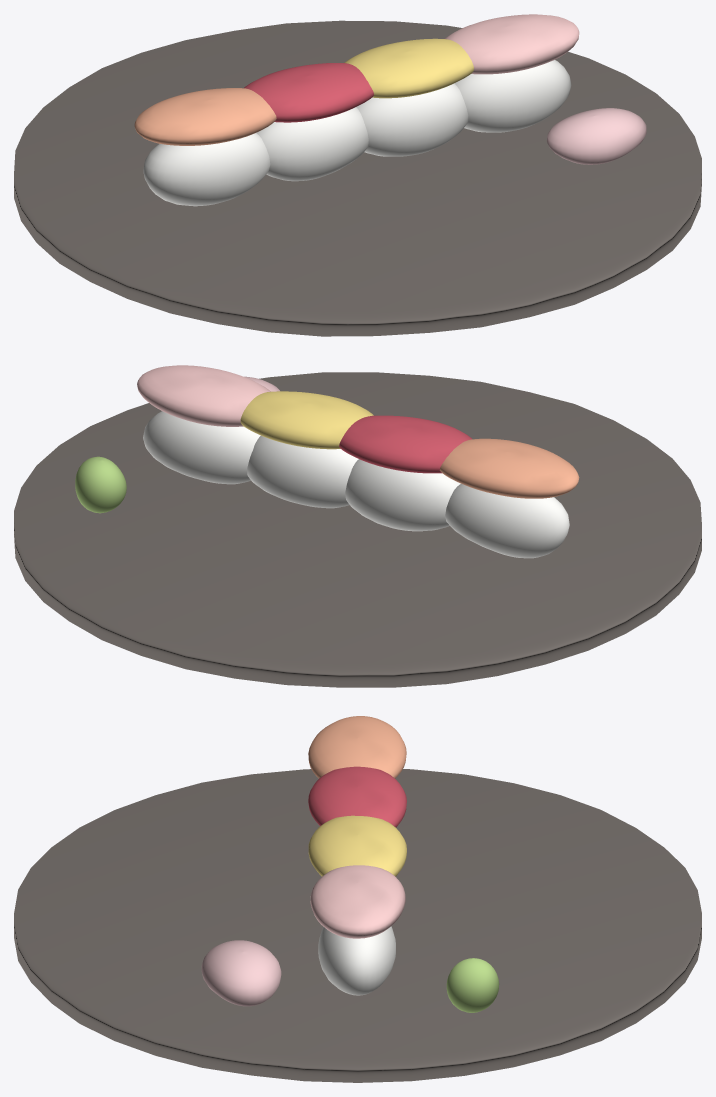
The model's file is nigiri.glb.
3 views of the same model, one above another, from view 1: azimuth 30°, elevation 25°; view 2: azimuth 150°, elevation 25°; view 3: azimuth 270°, elevation 25° (orthographic).
Size of the model in its own units: 0.3 by 0.0619 by 0.3.
